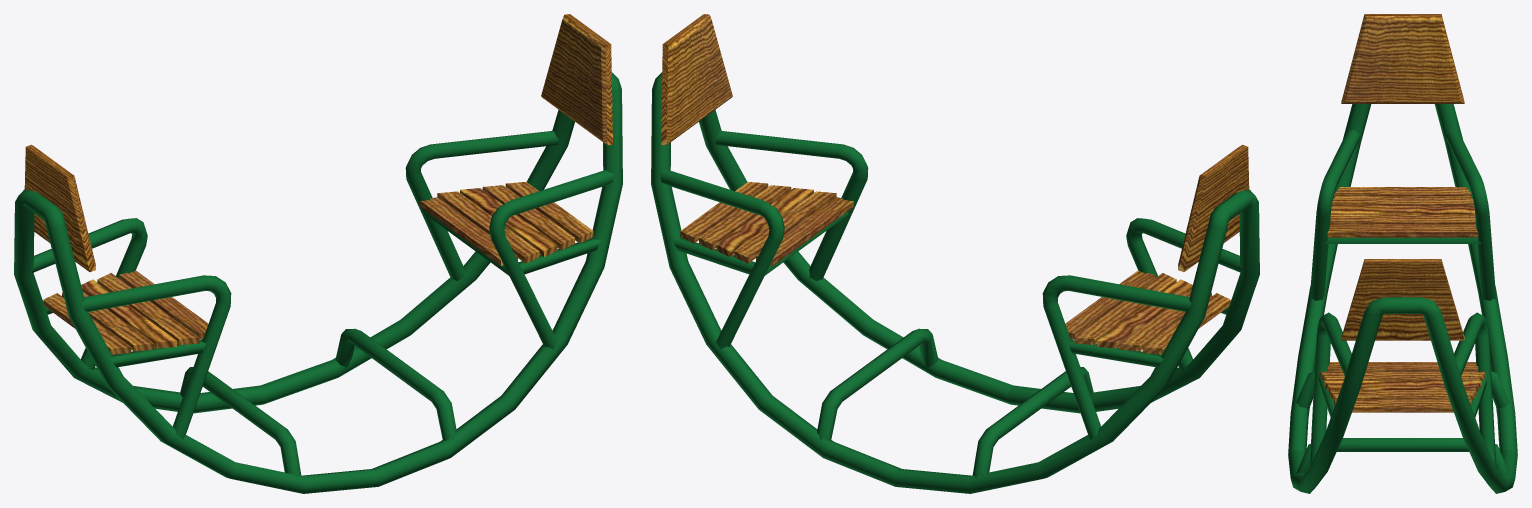
The model's file is seesaw.glb.
3 renders of one model, left to right at view 1: azimuth 30°, elevation 25°; view 2: azimuth 150°, elevation 25°; view 3: azimuth 270°, elevation 25°, orthographic. The views are drawn at different scales.
Parts seen in each view (by area): view 1: seesaw-type1; view 2: seesaw-type1; view 3: seesaw-type1.
Part boxes in pixels (box(x1,y1,x2,y2)): seesaw-type1: box(14, 14, 622, 493); seesaw-type1: box(651, 14, 1259, 493); seesaw-type1: box(1288, 14, 1517, 493).
Bounding box in the file's own units: 2 × 1.17 × 0.7452.
Materials: 1 (1 with a texture image).
